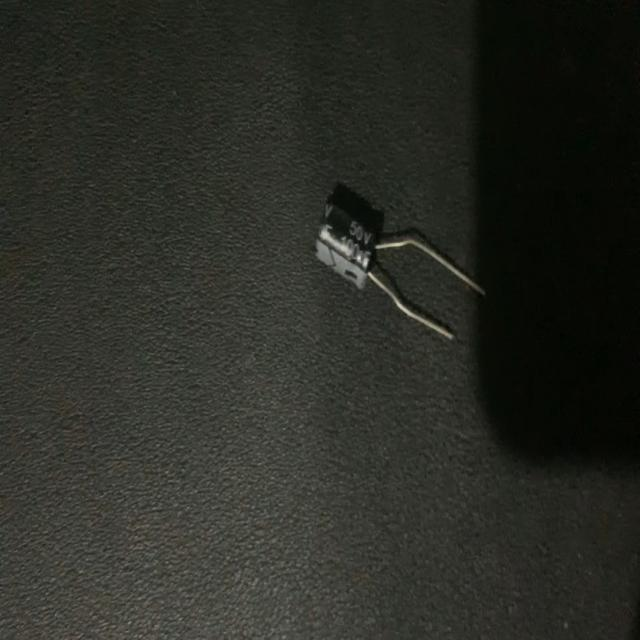capacitor: (312, 182, 493, 348)
